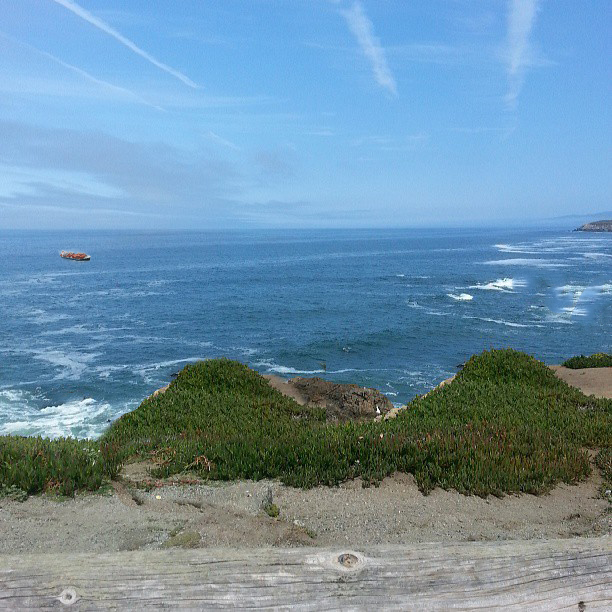copymove: (392, 350, 584, 420)
removal: (468, 208, 579, 234)
spliced: (53, 246, 94, 267)
